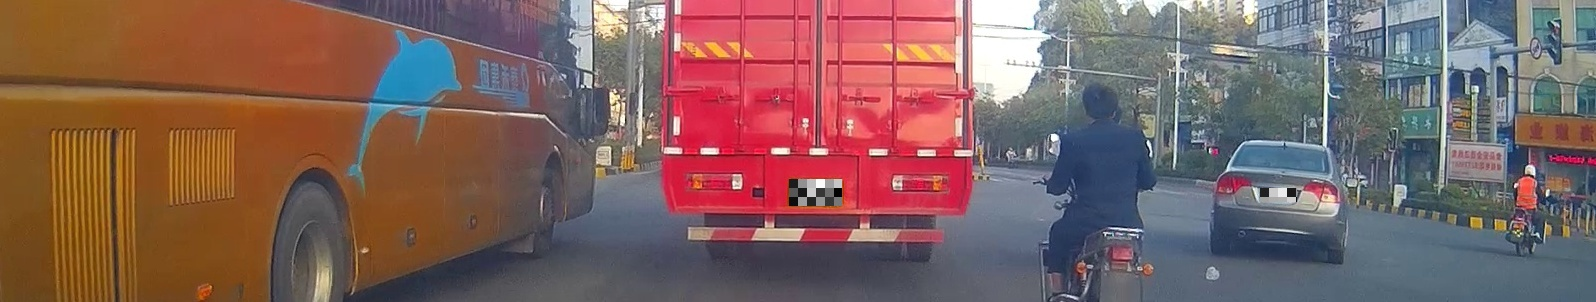L_light: (1215, 174, 1251, 194)
R_light: (1303, 181, 1339, 203)
T_light: (1277, 146, 1293, 152)
day-right: (1209, 140, 1345, 264)
plate_1: (789, 179, 842, 206)
plate_2: (1260, 188, 1297, 202)
